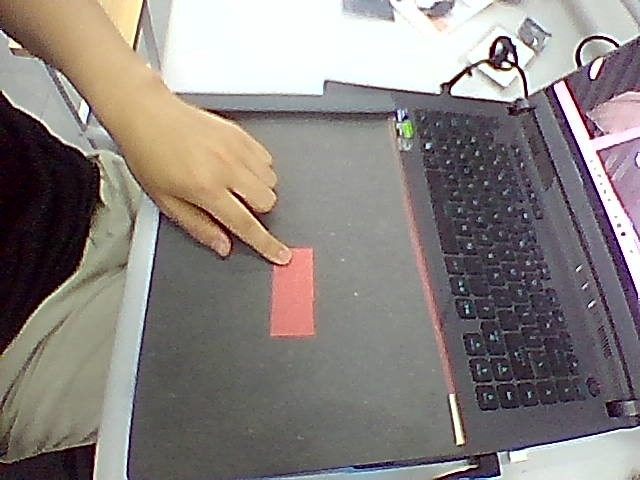card: (271, 248, 314, 337), (271, 248, 314, 336)
